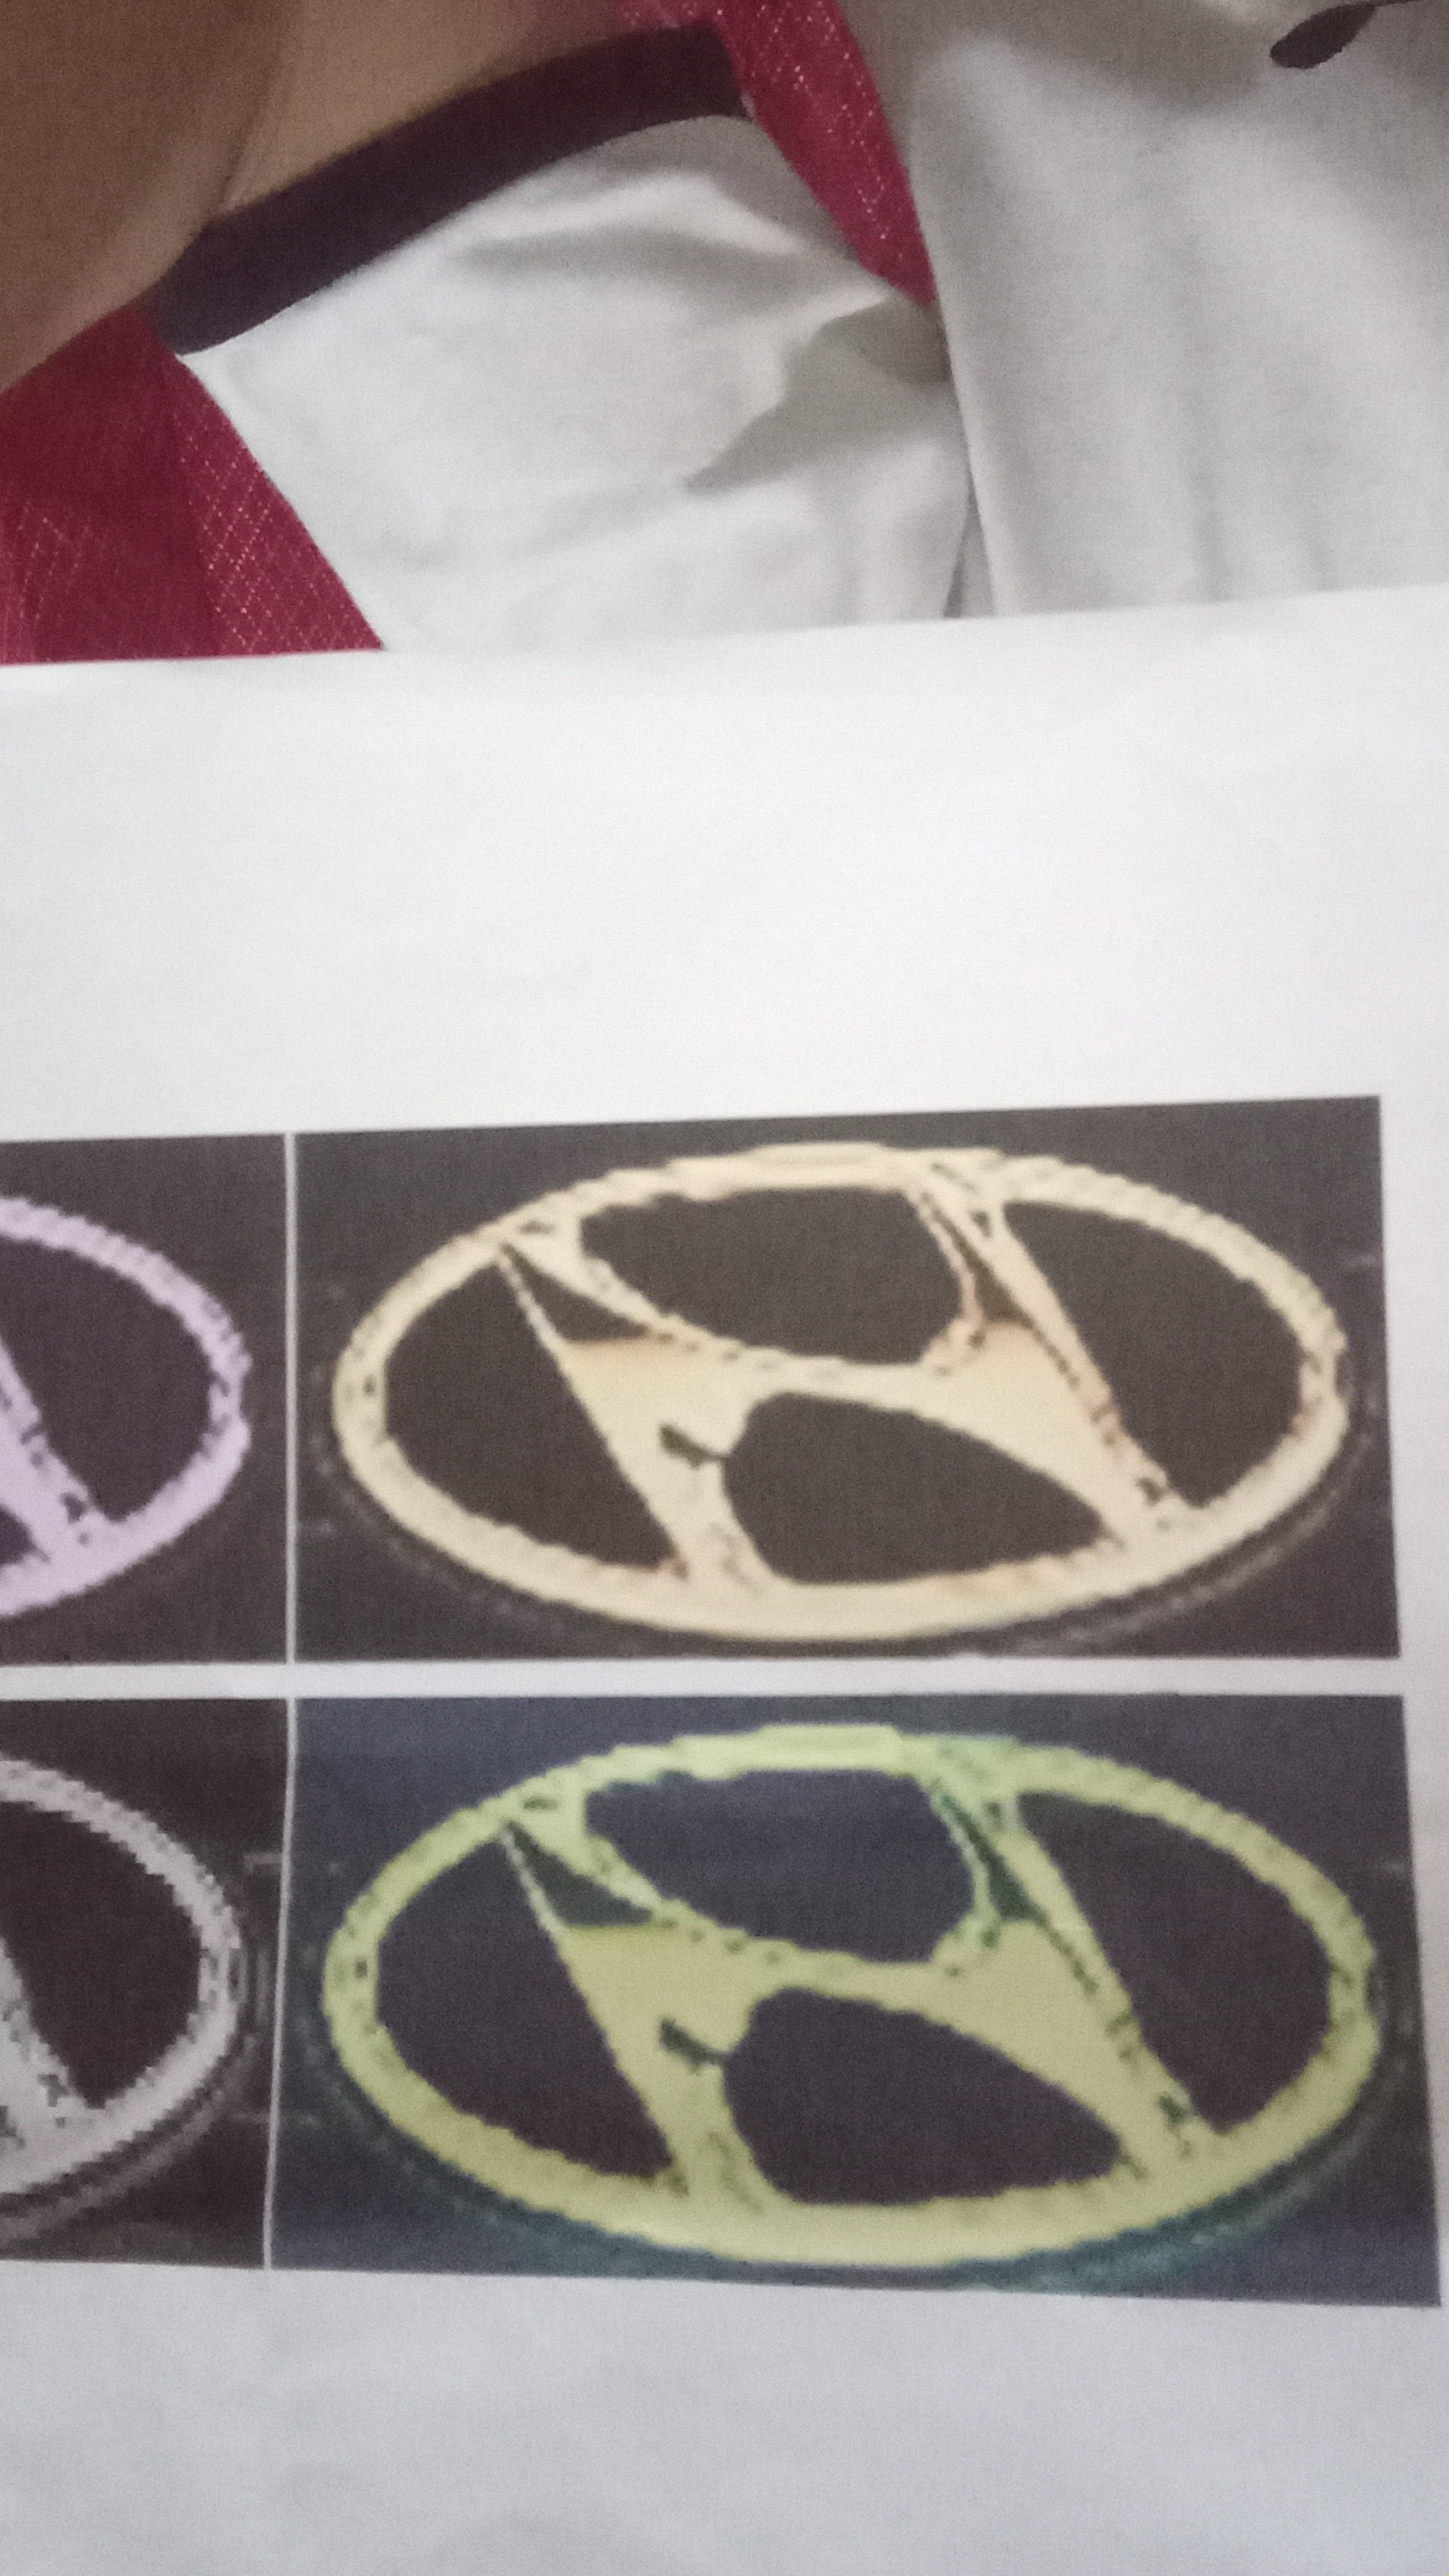Hyundai: (283, 1690, 1417, 2302), (290, 1120, 1384, 1658)
